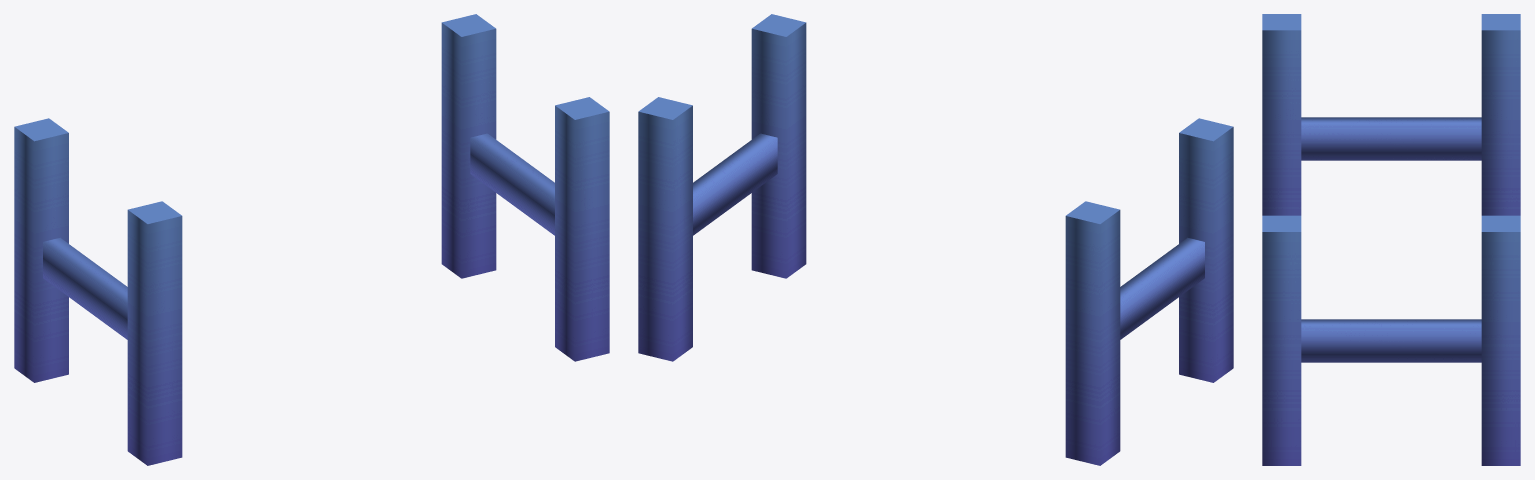
File: supports-wide.glb
3 renders of one model, left to right at view 1: azimuth 30°, elevation 25°; view 2: azimuth 150°, elevation 25°; view 3: azimuth 270°, elevation 25°, orthographic. The views are drawn at different scales.
Parts seen in each view (by area): view 1: supports-wide; view 2: supports-wide; view 3: supports-wide.
Boxes of the visible parts, x1,y1,x2,y2 form: supports-wide: (14,14,609,465); supports-wide: (638,14,1233,465); supports-wide: (1262,14,1520,465).
Size of the model in its own units: 2 by 1 by 1.
1 material, 1 textured.
